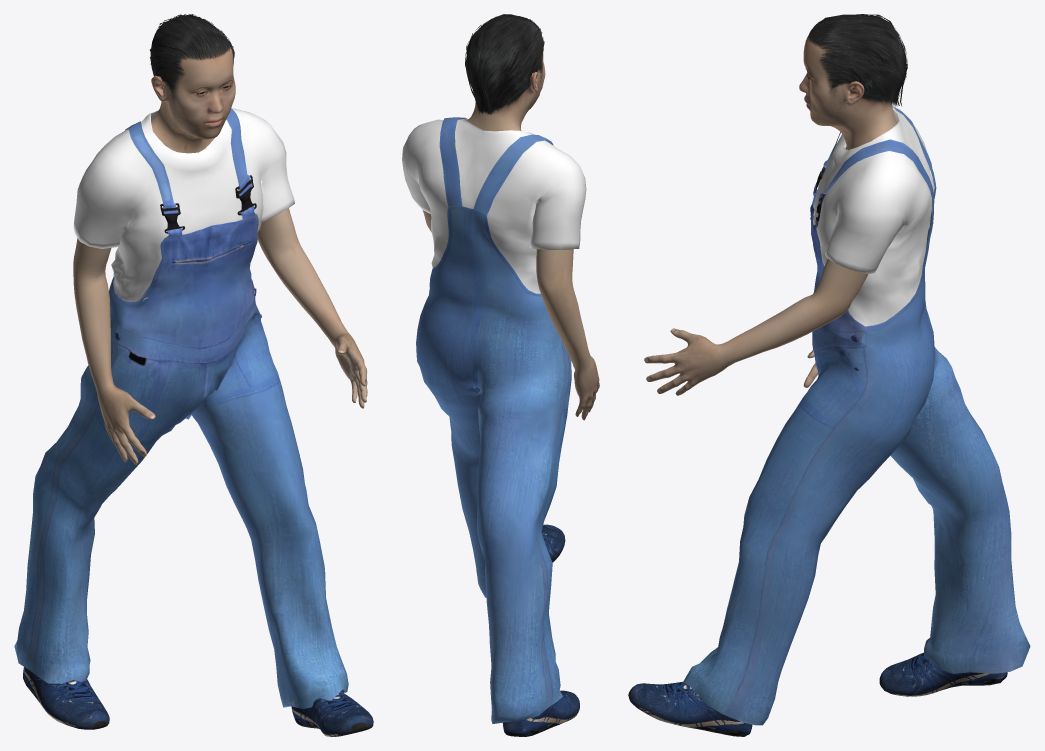
Rendered from uomo-04.glb.
3 views of the same model, side by side, from view 1: azimuth 30°, elevation 25°; view 2: azimuth 150°, elevation 25°; view 3: azimuth 270°, elevation 25° (orthographic). The views are drawn at different scales.
Parts seen in each view (by area): view 1: Human.male_worksuit01, Human, Human.shoes06, Human.short04; view 2: Human.male_worksuit01, Human, Human.short04, Human.shoes06; view 3: Human.male_worksuit01, Human, Human.short04, Human.shoes06.
Part boxes in pixels (x1,y1,x2,y2): Human.male_worksuit01: [14, 108, 348, 708]; Human: [73, 47, 367, 464]; Human.shoes06: [23, 667, 373, 736]; Human.short04: [150, 14, 234, 101]; Human.male_worksuit01: [402, 117, 586, 723]; Human: [422, 53, 599, 420]; Human.short04: [465, 14, 544, 115]; Human.shoes06: [502, 524, 579, 736]; Human.male_worksuit01: [682, 106, 1030, 725]; Human: [644, 34, 897, 395]; Human.short04: [808, 14, 907, 106]; Human.shoes06: [628, 652, 1007, 736].
Size of the model in its own units: 0.5026 by 1.63 by 0.8358.
12 materials, 12 textured.
